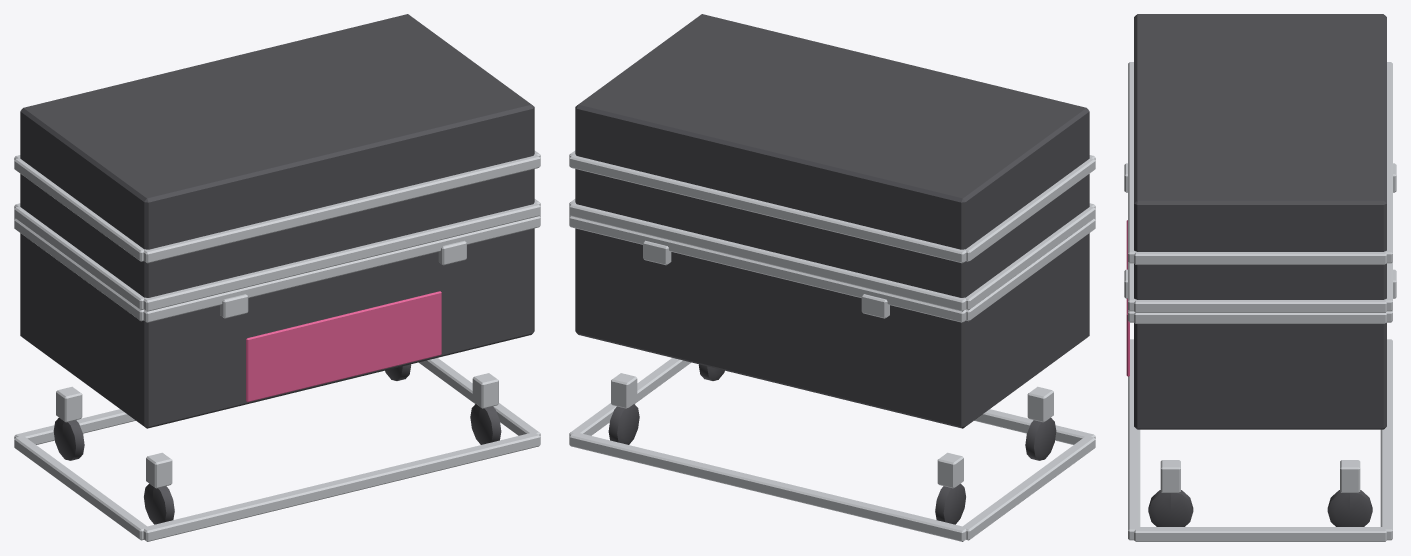
File: live-music-venue-and-festival-stage-road-case-large-483e15ad.glb
3 renders of one model, left to right at view 1: azimuth 30°, elevation 25°; view 2: azimuth 150°, elevation 25°; view 3: azimuth 270°, elevation 25°, orthographic.
Visible parts, largest first — view 1: road-case-large, lid/metal, lid; view 2: road-case-large, lid/metal, lid; view 3: road-case-large, lid/metal, lid.
Part boxes in pixels (x1,y1,x2,y2): road-case-large: (14,14,540,541); lid/metal: (14,150,540,311); lid: (21,135,534,281); road-case-large: (569,14,1095,541); lid/metal: (569,150,1095,311); lid: (575,134,1089,281); road-case-large: (1124,14,1396,541); lid/metal: (1128,62,1392,312); lid: (1134,230,1386,283).
Bounding box in the file's own units: 1.13 × 0.93 × 0.668.
